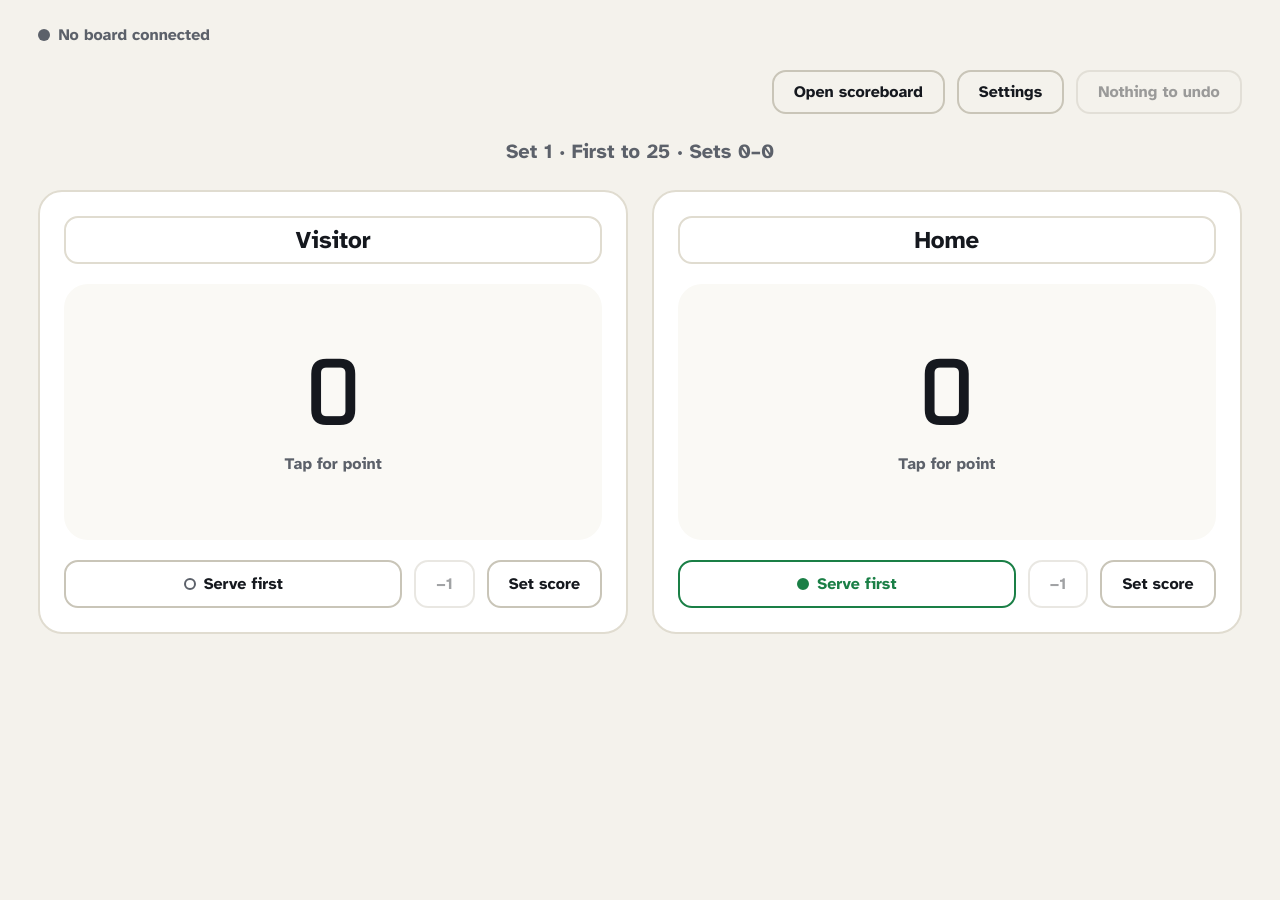
Test case: VolleyballConsole › serve › picks the first server at 0-0, then follows the point
Click the 1st button "Serve first".
click(233, 584)  # box [64,560,402,608]
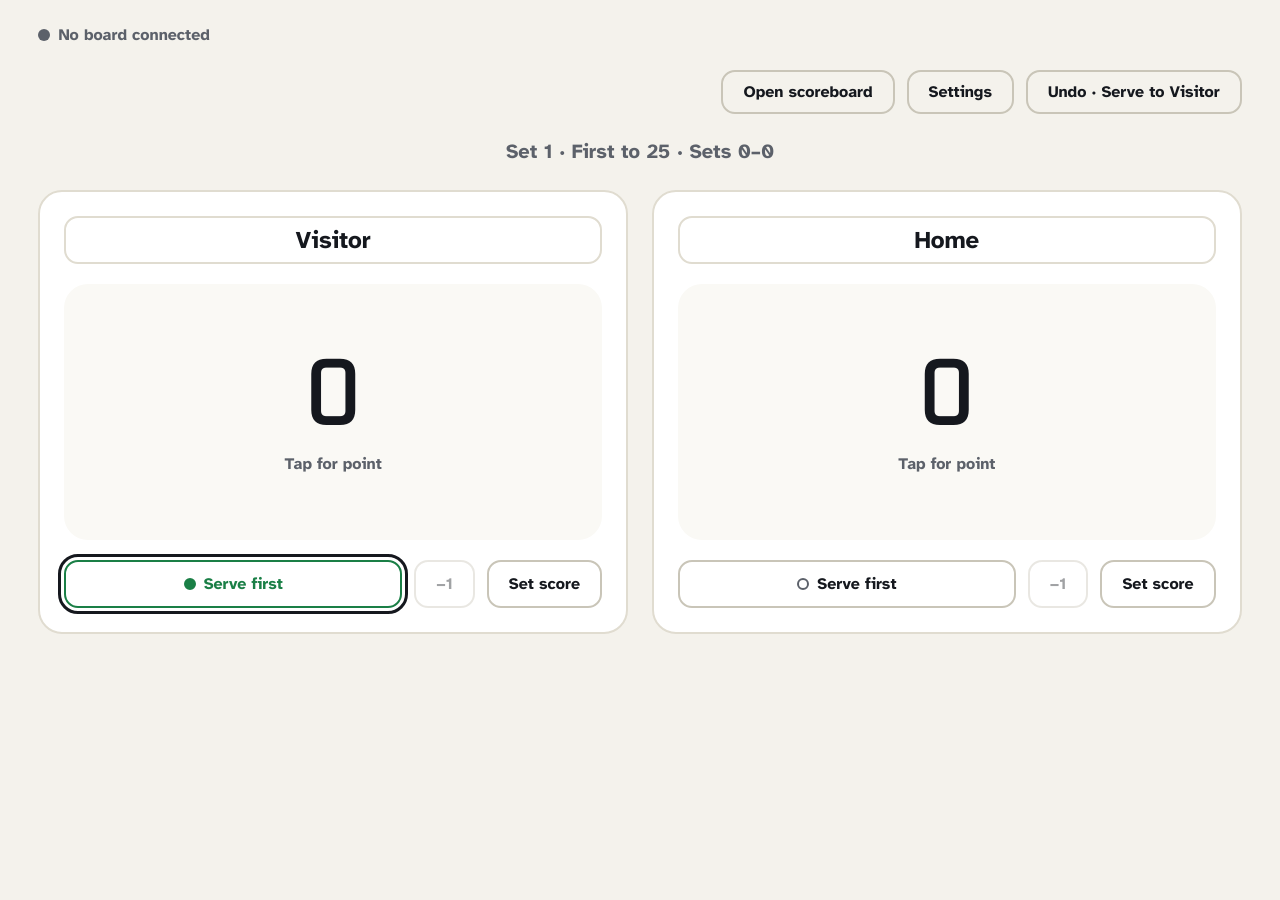
expect the 1st button "Serve first" is pressed: met, box [64,560,402,608]
Click the button with aria-label "Point for Home".
click(947, 464)  # box [898,453,995,476]
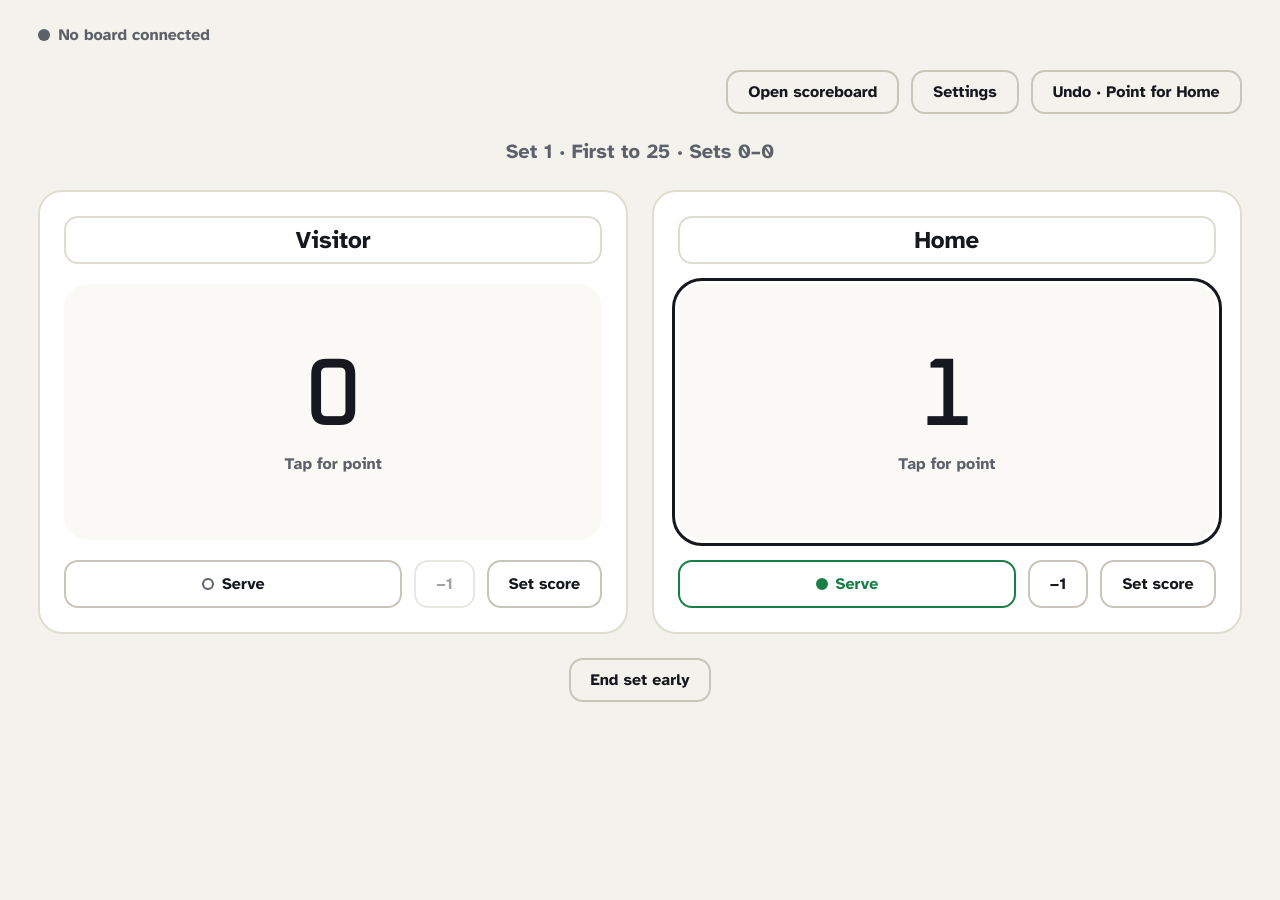
expect the 2nd button "Serve" is shown: met, box [678,560,1016,608]
